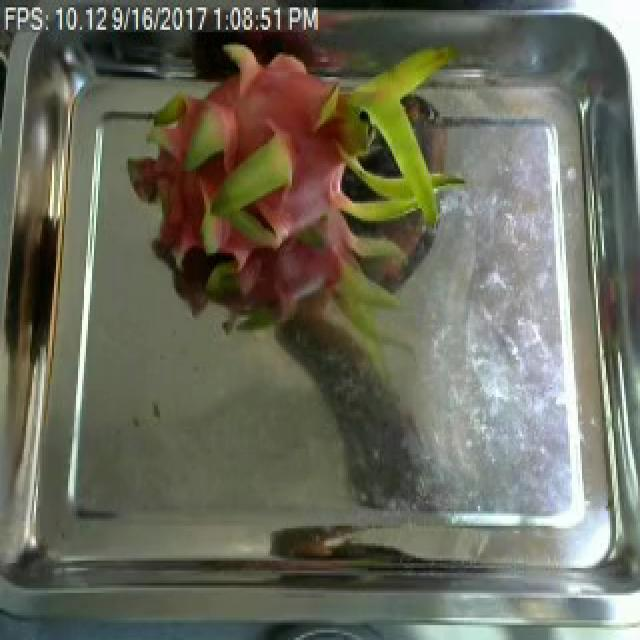fruit: (102, 2, 496, 382)
